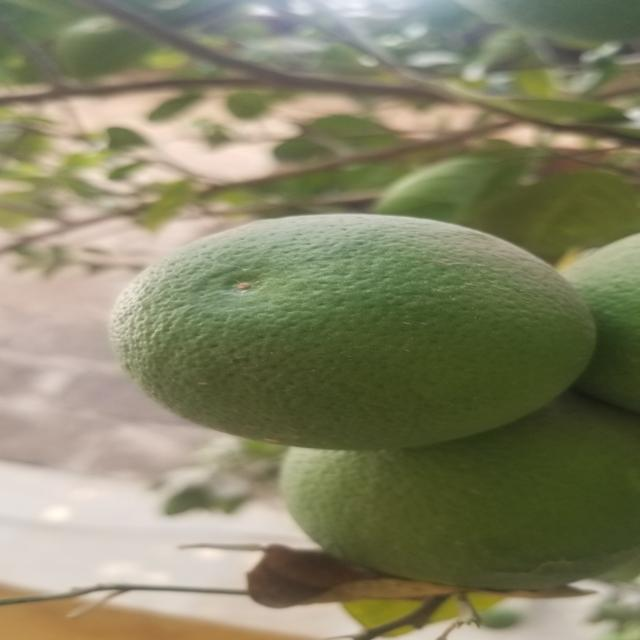Unripe: (111, 211, 601, 448), (281, 402, 633, 586), (548, 231, 640, 422)
